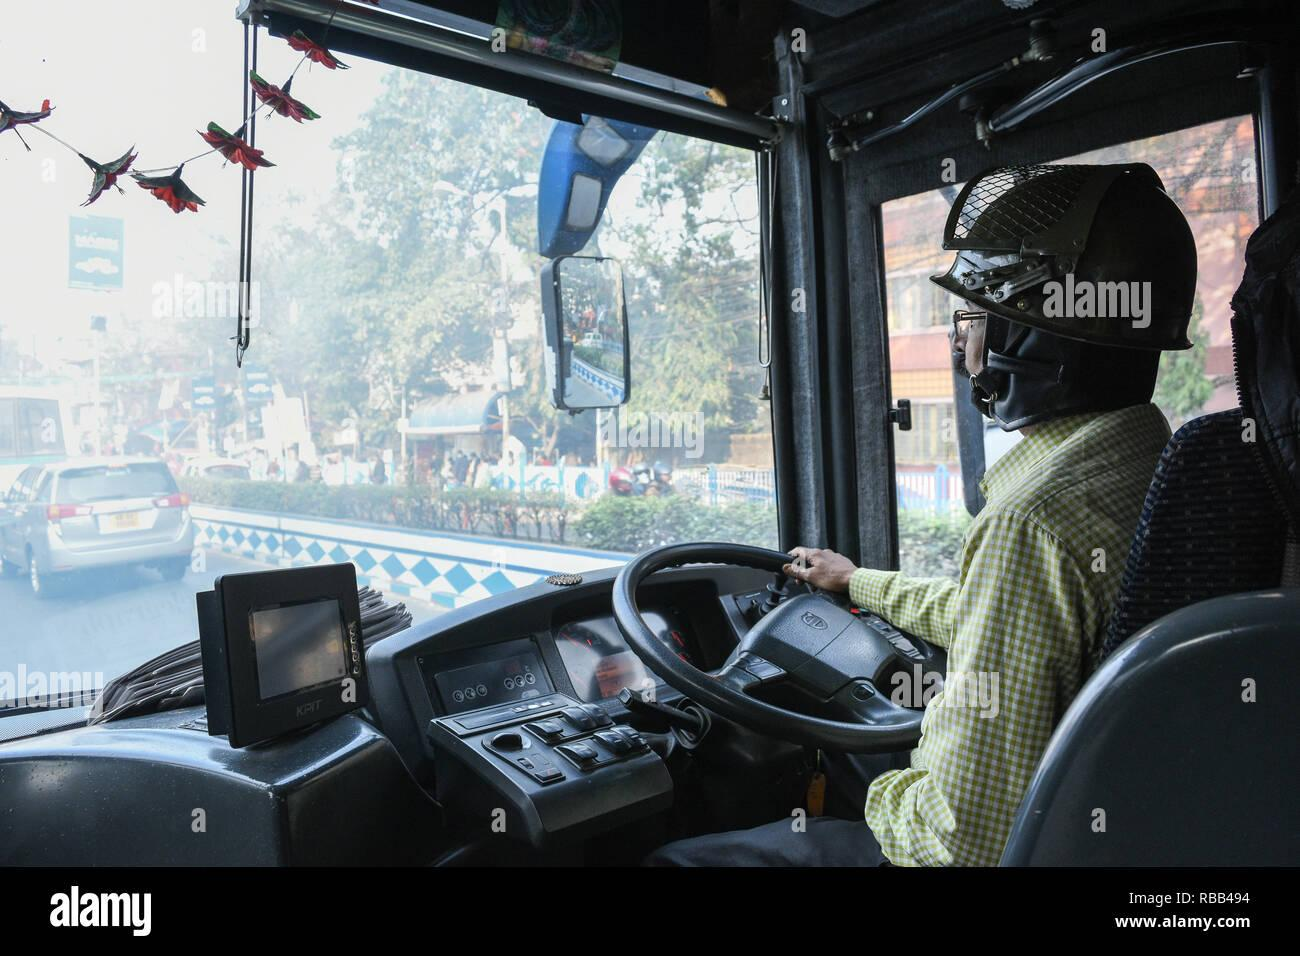Helmet: (942, 163, 1197, 362)
